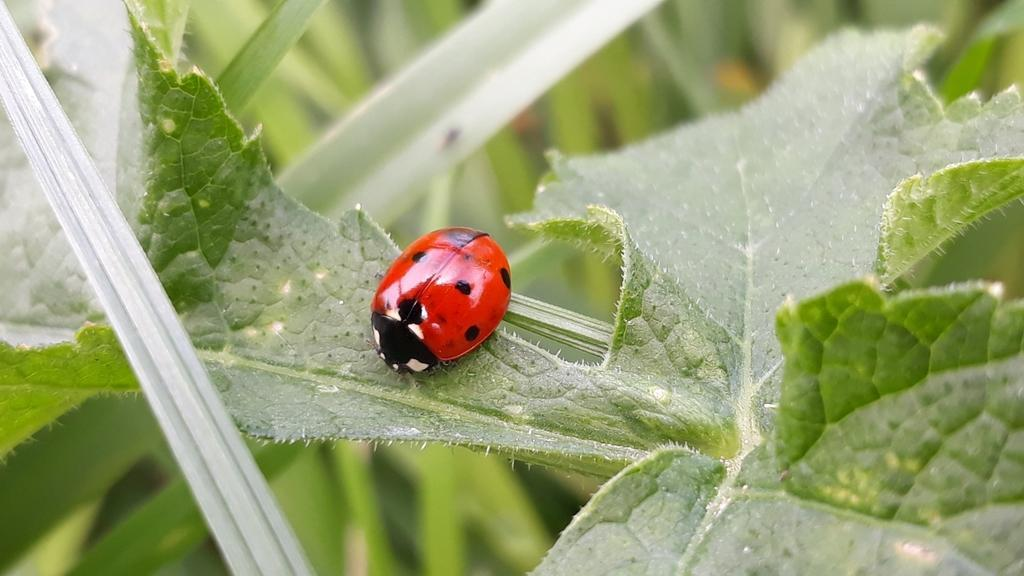ladybug: (371, 226, 518, 378)
